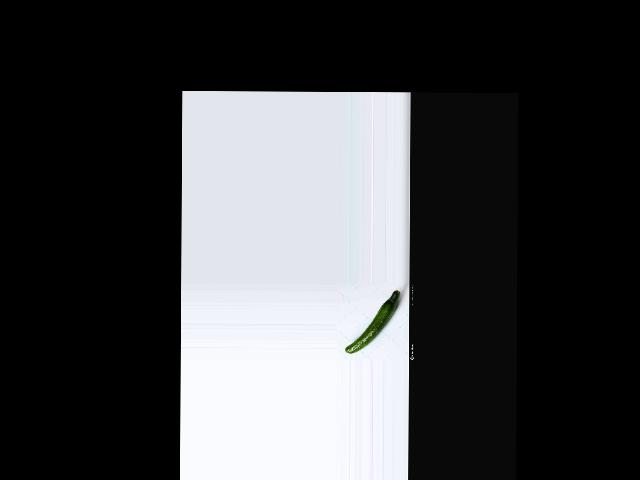cucumber: (345, 288, 400, 353)
